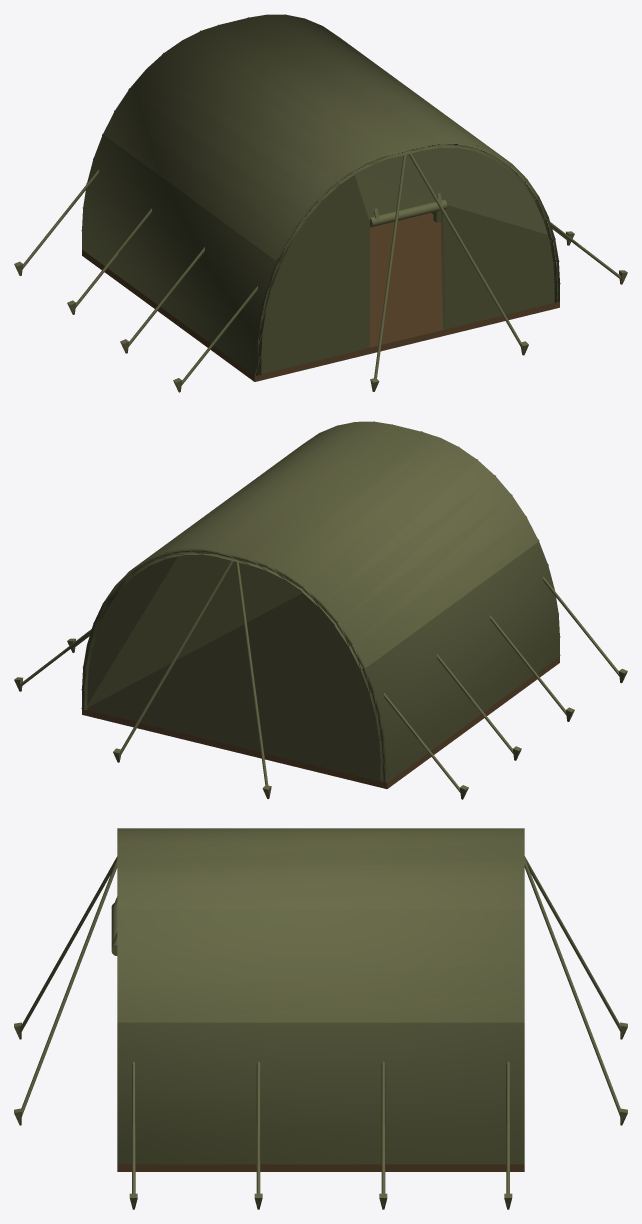
File: army-tent.zfix-v1.lod0.glb
3 renders of one model, top to bottom at view 1: azimuth 30°, elevation 25°; view 2: azimuth 150°, elevation 25°; view 3: azimuth 270°, elevation 25°, orthographic. The views are drawn at different scales.
Visible parts, largest first — view 1: Object_2; view 2: Object_2; view 3: Object_2.
Boxes of the visible parts, left/top/right/bottom form: Object_2: left=14, top=14, right=627, bottom=392; Object_2: left=14, top=421, right=627, bottom=799; Object_2: left=14, top=828, right=627, bottom=1209.
Size of the model in its own units: 7.5 by 3.13 by 7.5.
